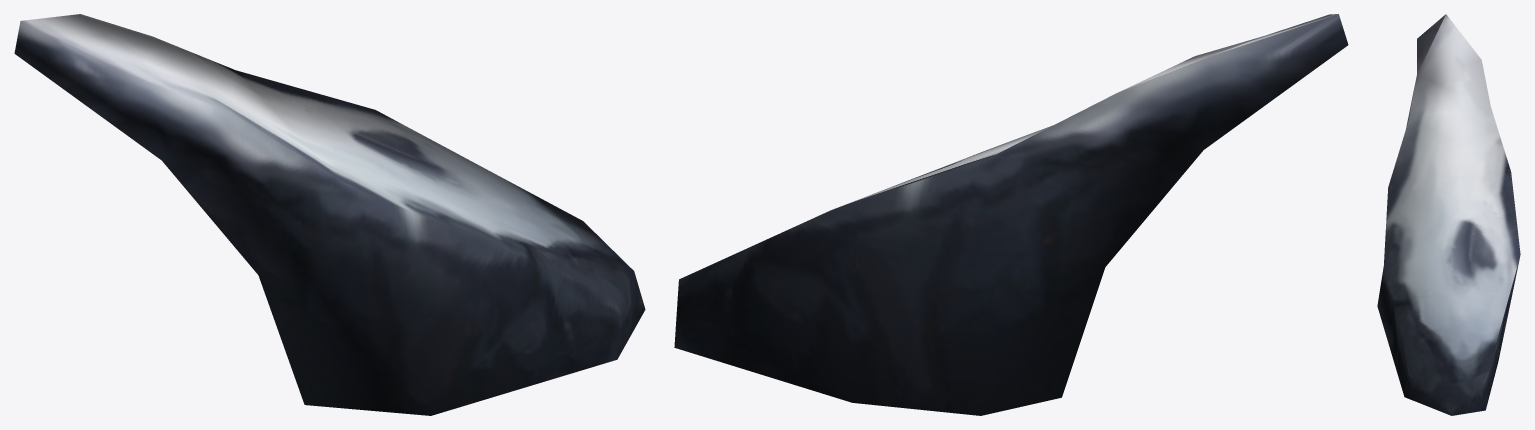
File: LGhuangyuan_shitou02.FBX
The picture shows the model from 3 angles, left to right: view 1: azimuth 30°, elevation 25°; view 2: azimuth 150°, elevation 25°; view 3: azimuth 270°, elevation 25°; orthographic projection. The views are drawn at different scales.
Parts seen in each view (by area): view 1: LGhuangyuan_shitou02; view 2: LGhuangyuan_shitou02; view 3: LGhuangyuan_shitou02.
Part boxes in pixels (bbox=[...]): LGhuangyuan_shitou02: bbox=[14, 14, 645, 415]; LGhuangyuan_shitou02: bbox=[674, 14, 1348, 415]; LGhuangyuan_shitou02: bbox=[1377, 14, 1520, 415].
Size of the model in its own units: 83.97 by 30.61 by 56.13.
